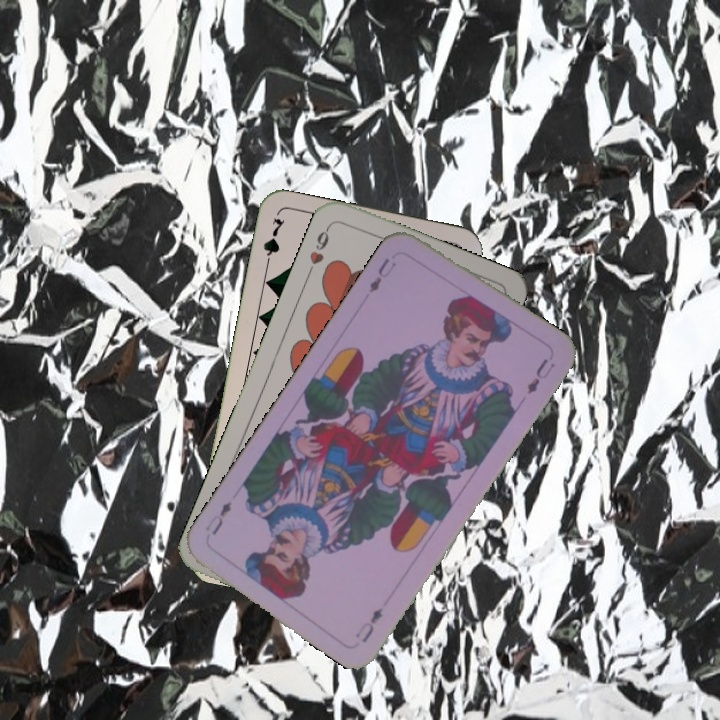EU: (351, 603, 385, 646), (365, 254, 399, 296)
G7: (259, 213, 288, 272)
H9: (303, 221, 334, 277)
